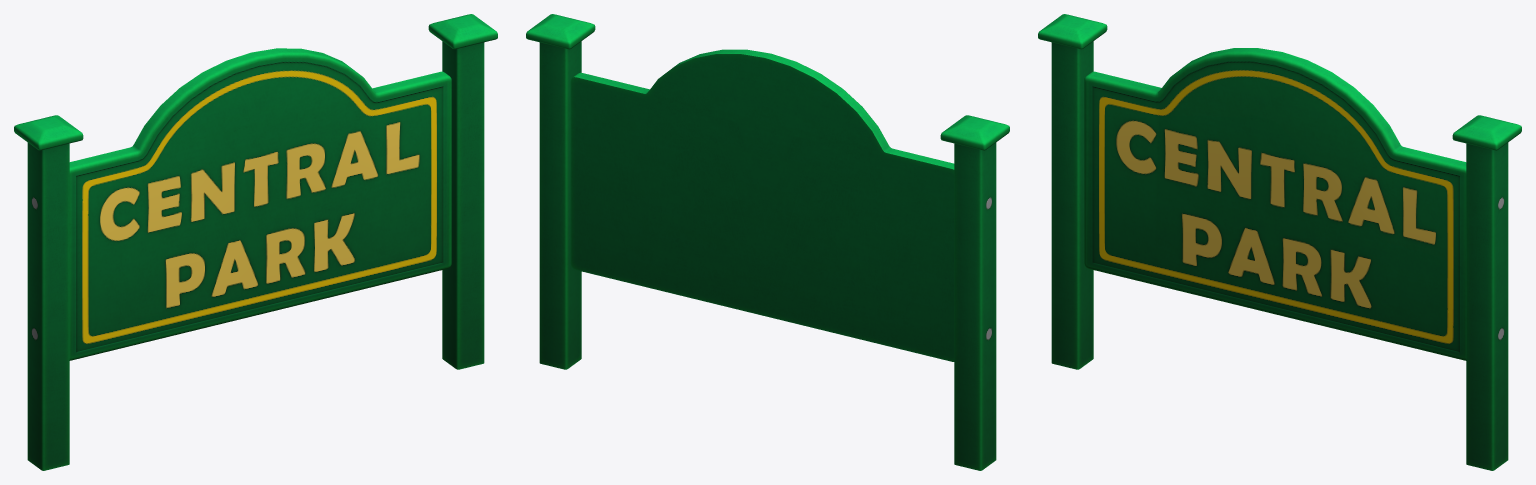
Rendered from SignPark01.FBX.
3 views of the same model, side by side, from view 1: azimuth 30°, elevation 25°; view 2: azimuth 150°, elevation 25°; view 3: azimuth 330°, elevation 25° (orthographic).
Parts seen in each view (by area): view 1: SignPark01; view 2: SignPark01; view 3: SignPark01.
Part boxes in pixels (x1,y1,x2,y2): SignPark01: (14,14,497,470); SignPark01: (526,14,1009,470); SignPark01: (1038,14,1521,470).
Size of what is drawn, in the model's own units: 3.99 by 2.96 by 0.3895.
